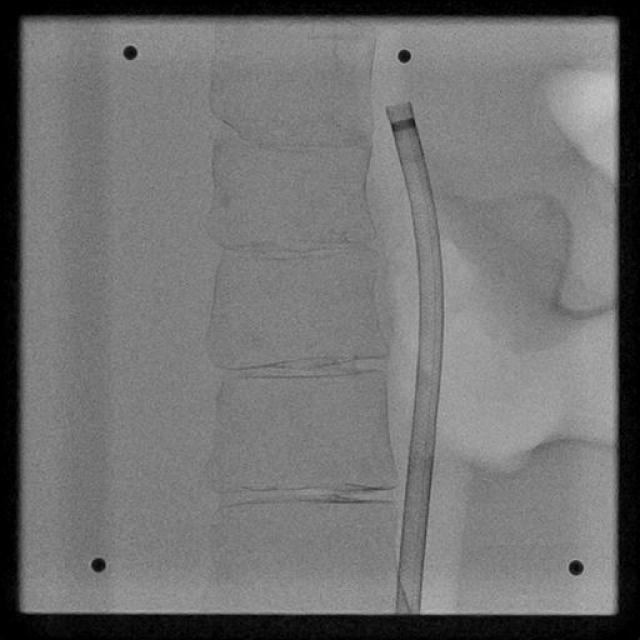bend: (411, 440, 435, 452)
entry: (394, 608, 420, 614)
marker: (392, 118, 414, 132)
tip: (386, 100, 412, 111)
